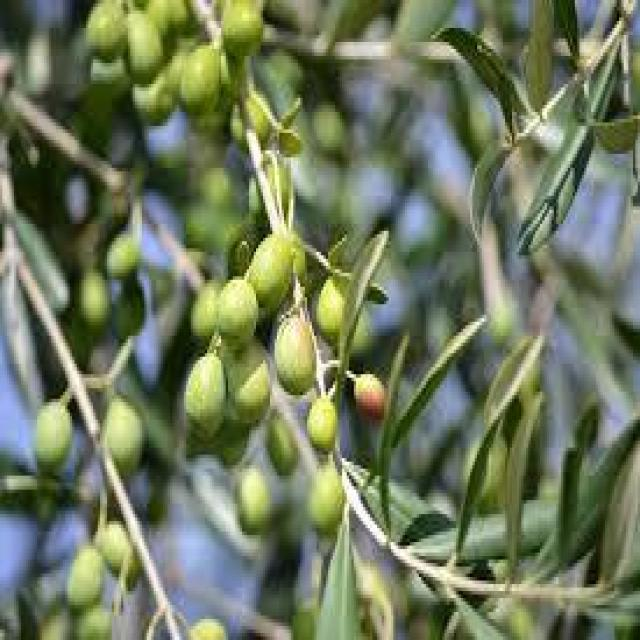Healthy: (184, 353, 225, 434), (275, 311, 314, 392), (216, 276, 256, 343), (179, 45, 219, 112), (307, 395, 335, 448)
